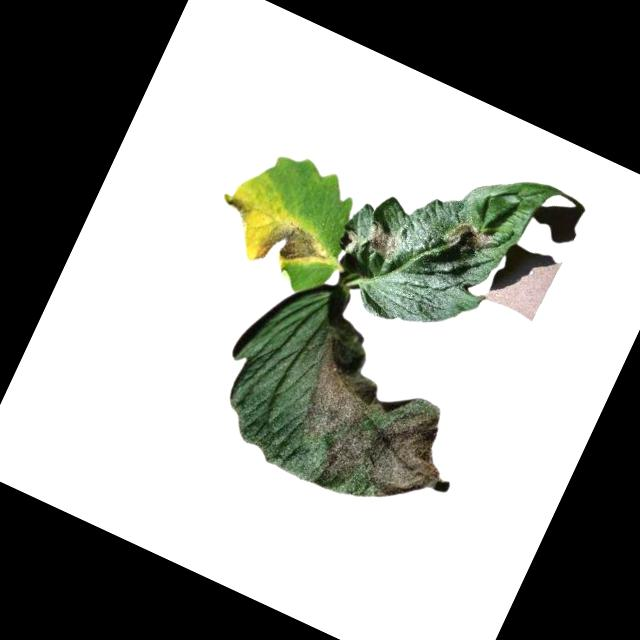Late_blight: (270, 315, 503, 534), (253, 216, 336, 290), (441, 217, 498, 263), (362, 219, 408, 262), (222, 194, 250, 217)
